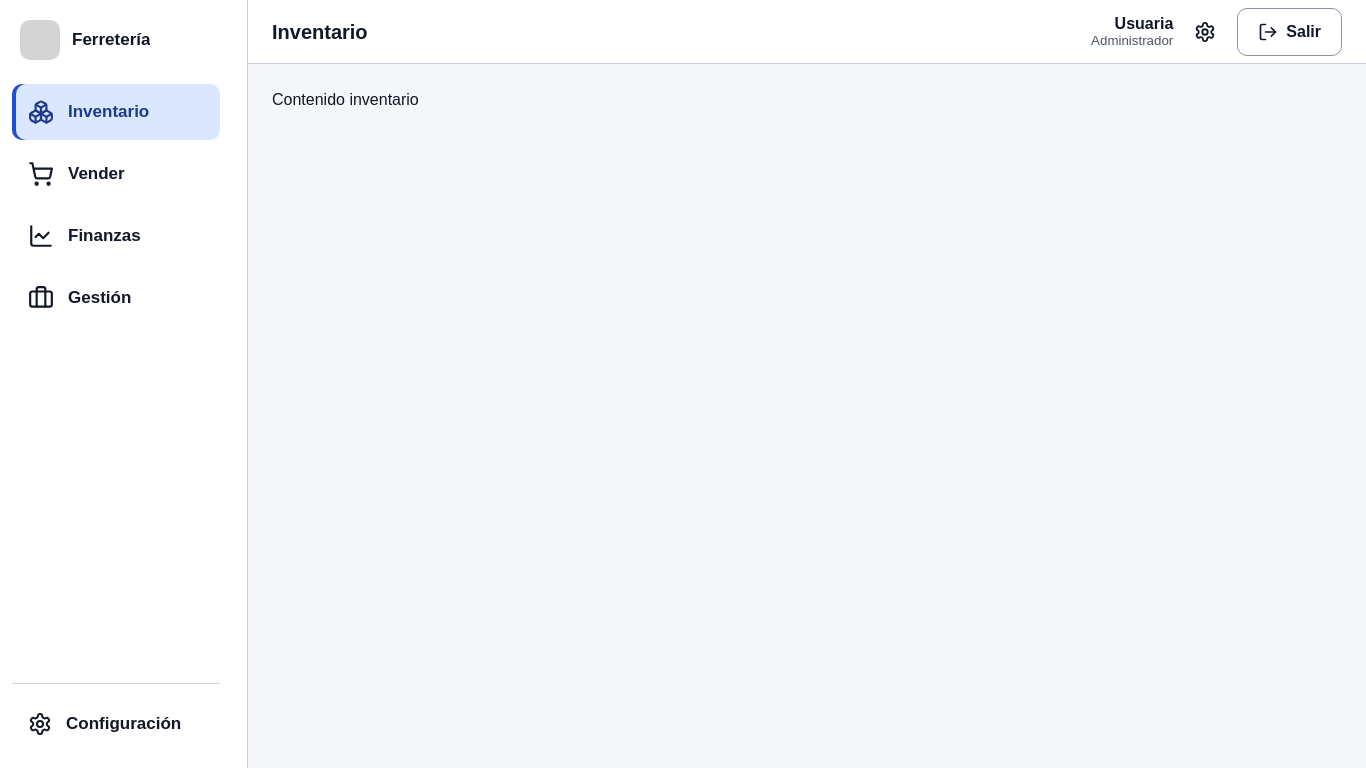
Scenario: navegación por rol › la barra lateral no se vuelve a montar ni cambia al navegar
Click the link "Vender": [76, 174] box left=28, top=161, right=125, bottom=187
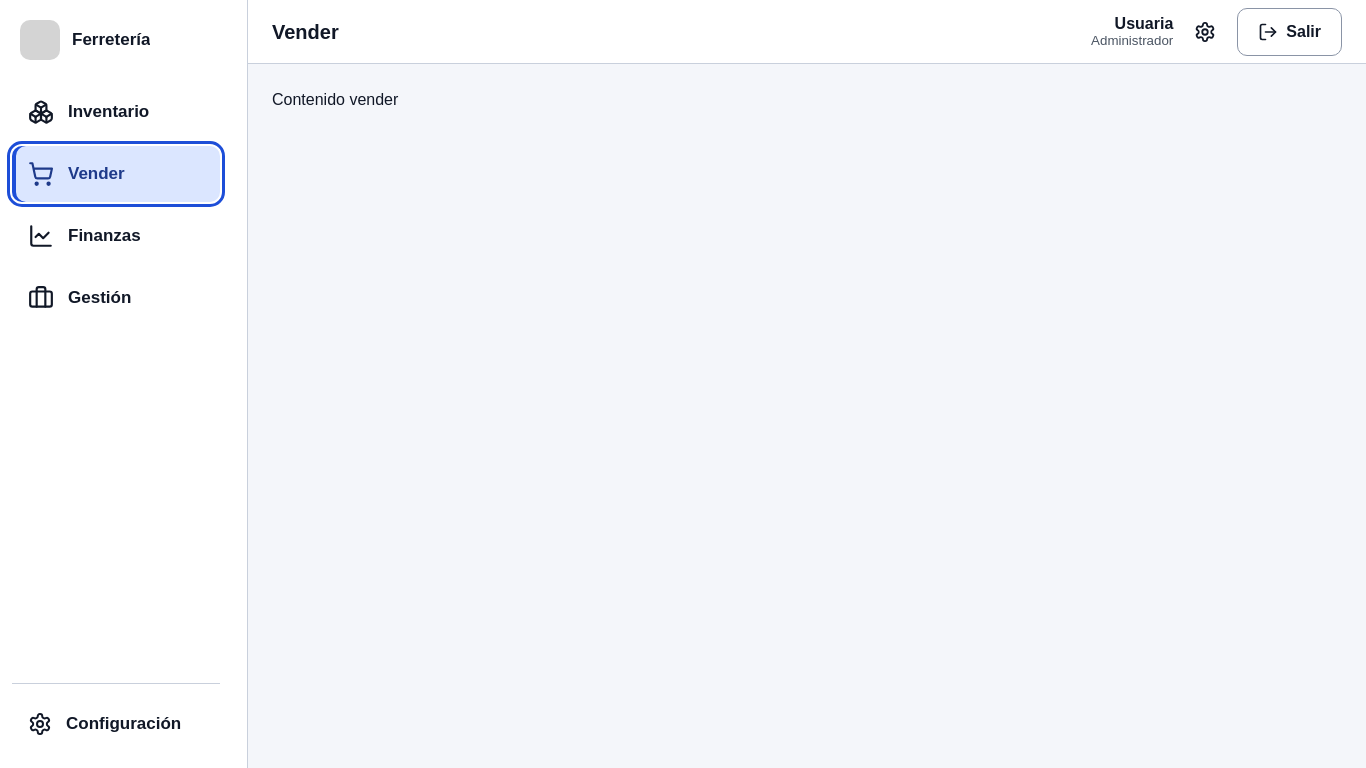
Result: the text "Contenido vender" is shown at left=272, top=91, right=398, bottom=108
